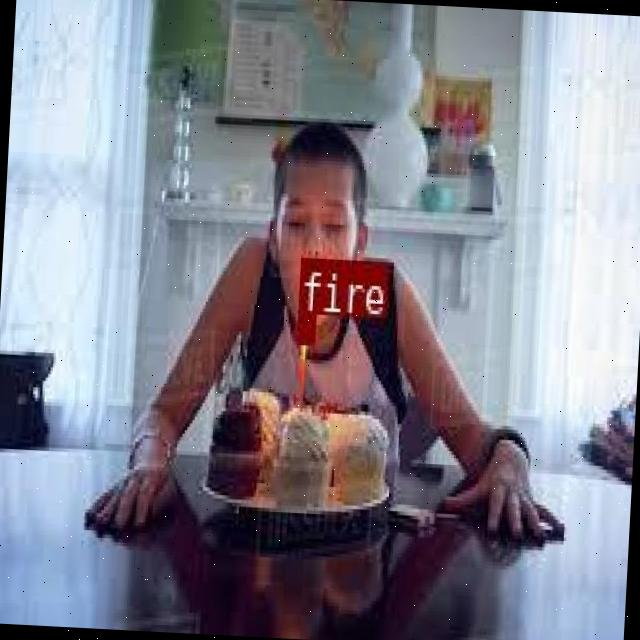fire: (297, 312, 314, 341)
